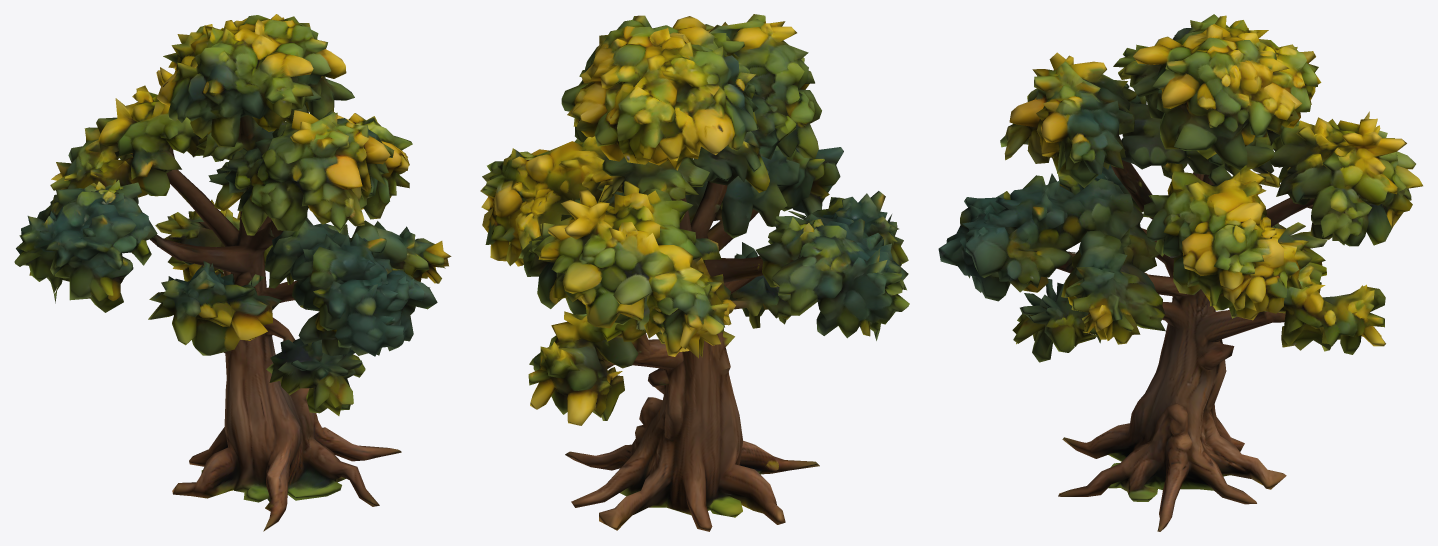
File: oak.glb
3 views of the same model, side by side, from view 1: azimuth 30°, elevation 25°; view 2: azimuth 150°, elevation 25°; view 3: azimuth 270°, elevation 25° (orthographic). The views are drawn at different scales.
Visible parts, largest first — view 1: tripo_node_d78f92d5-13f7-43d6-91fa-85447dbc88fb; view 2: tripo_node_d78f92d5-13f7-43d6-91fa-85447dbc88fb; view 3: tripo_node_d78f92d5-13f7-43d6-91fa-85447dbc88fb.
Boxes of the visible parts, x1=… form: tripo_node_d78f92d5-13f7-43d6-91fa-85447dbc88fb: x1=14, y1=14, x2=451, y2=531; tripo_node_d78f92d5-13f7-43d6-91fa-85447dbc88fb: x1=480, y1=14, x2=909, y2=531; tripo_node_d78f92d5-13f7-43d6-91fa-85447dbc88fb: x1=938, y1=14, x2=1422, y2=531.
Bounding box in the file's own units: 0.9351 × 1 × 0.9815.
1 material, 1 textured.
